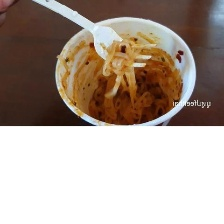paper_cup: (51, 12, 198, 125)
